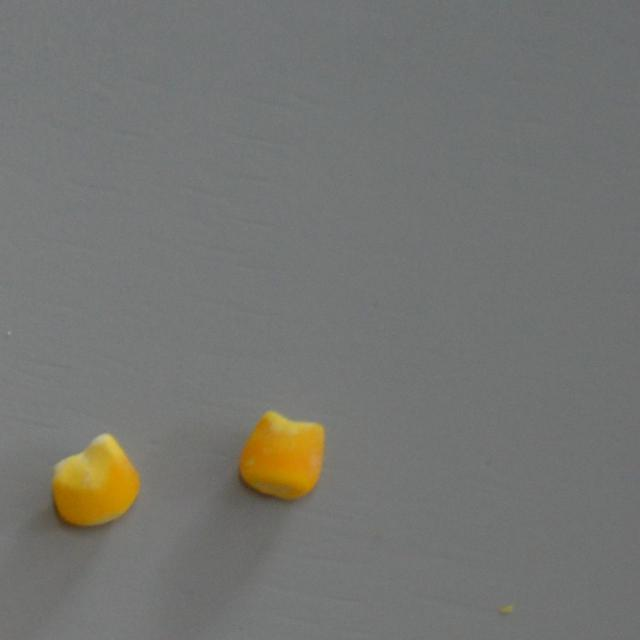no_desgerminado: (46, 430, 144, 532)
pelicula: (238, 406, 326, 506)
